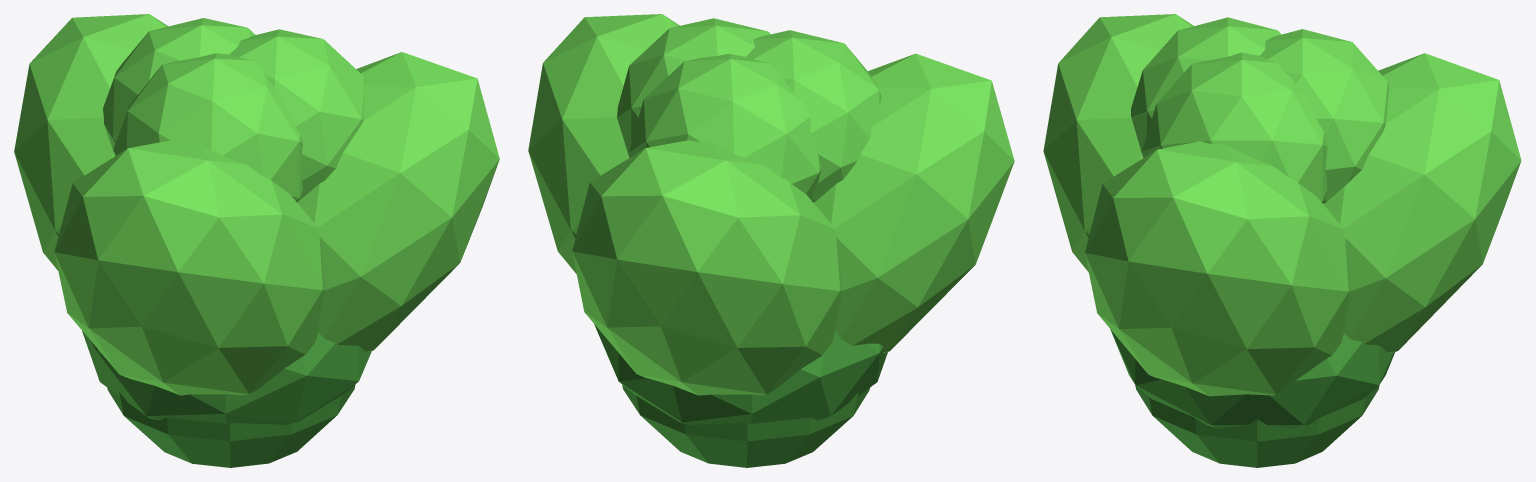
File: SproutLeaves.glb
3 views of the same model, side by side, from view 1: azimuth 30°, elevation 25°; view 2: azimuth 150°, elevation 25°; view 3: azimuth 270°, elevation 25° (orthographic).
Parts seen in each view (by area): view 1: SproutLeaves_SproutLeaf, SproutLeaves_SproutHub; view 2: SproutLeaves_SproutLeaf, SproutLeaves_SproutHub; view 3: SproutLeaves_SproutLeaf, SproutLeaves_SproutHub.
Boxes of the visible parts, bbox=[...] form: SproutLeaves_SproutLeaf: bbox=[14, 14, 499, 395]; SproutLeaves_SproutHub: bbox=[82, 331, 371, 467]; SproutLeaves_SproutLeaf: bbox=[528, 14, 1014, 395]; SproutLeaves_SproutHub: bbox=[594, 324, 887, 467]; SproutLeaves_SproutLeaf: bbox=[1043, 14, 1521, 396]; SproutLeaves_SproutHub: bbox=[1110, 329, 1394, 467].
Bounding box in the file's own units: 3.19 × 2.8 × 3.08.
